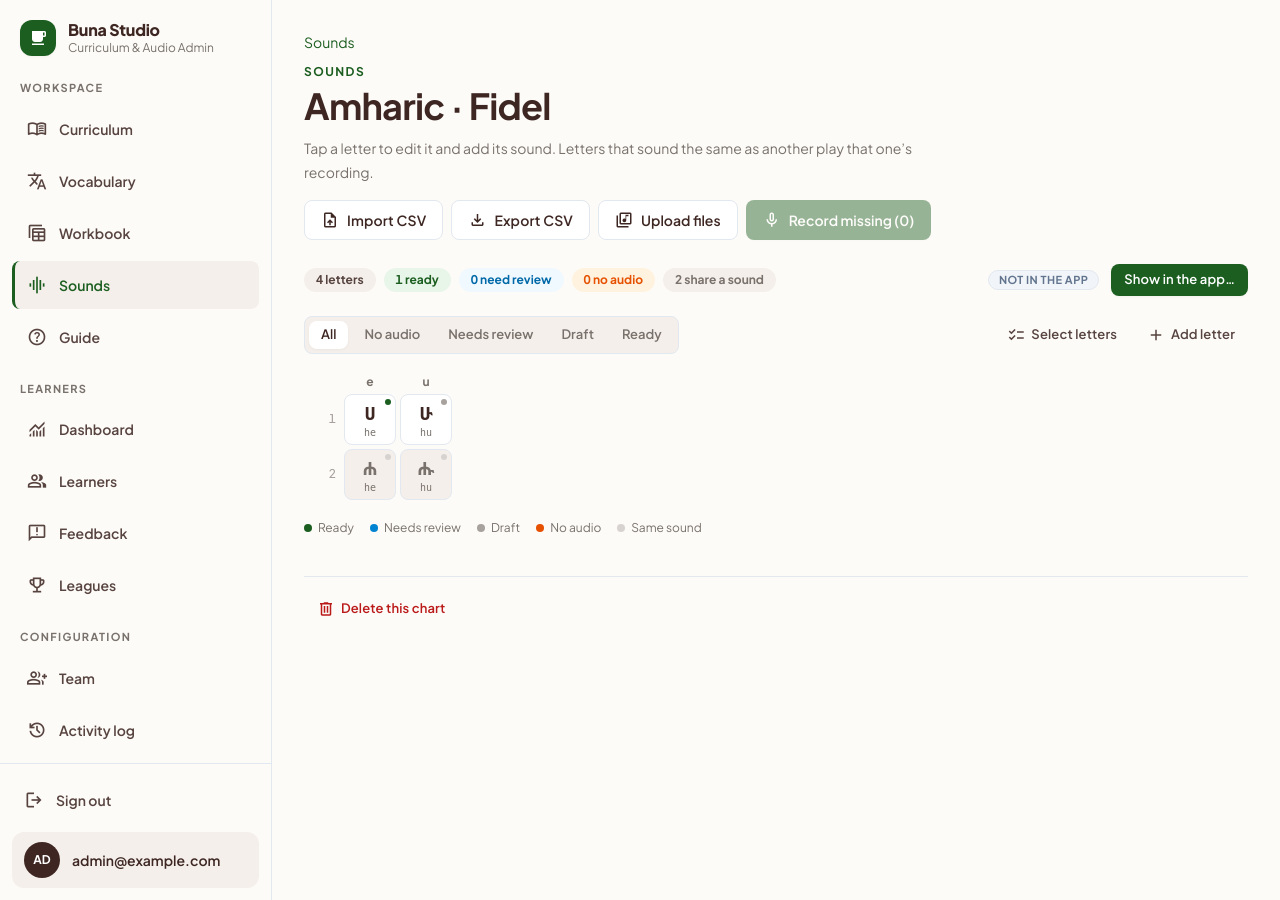
Test case: a chart › shows a complete chart in the app
Click the button "Show in the app…" at [1180, 280], box [1111, 264, 1248, 296]
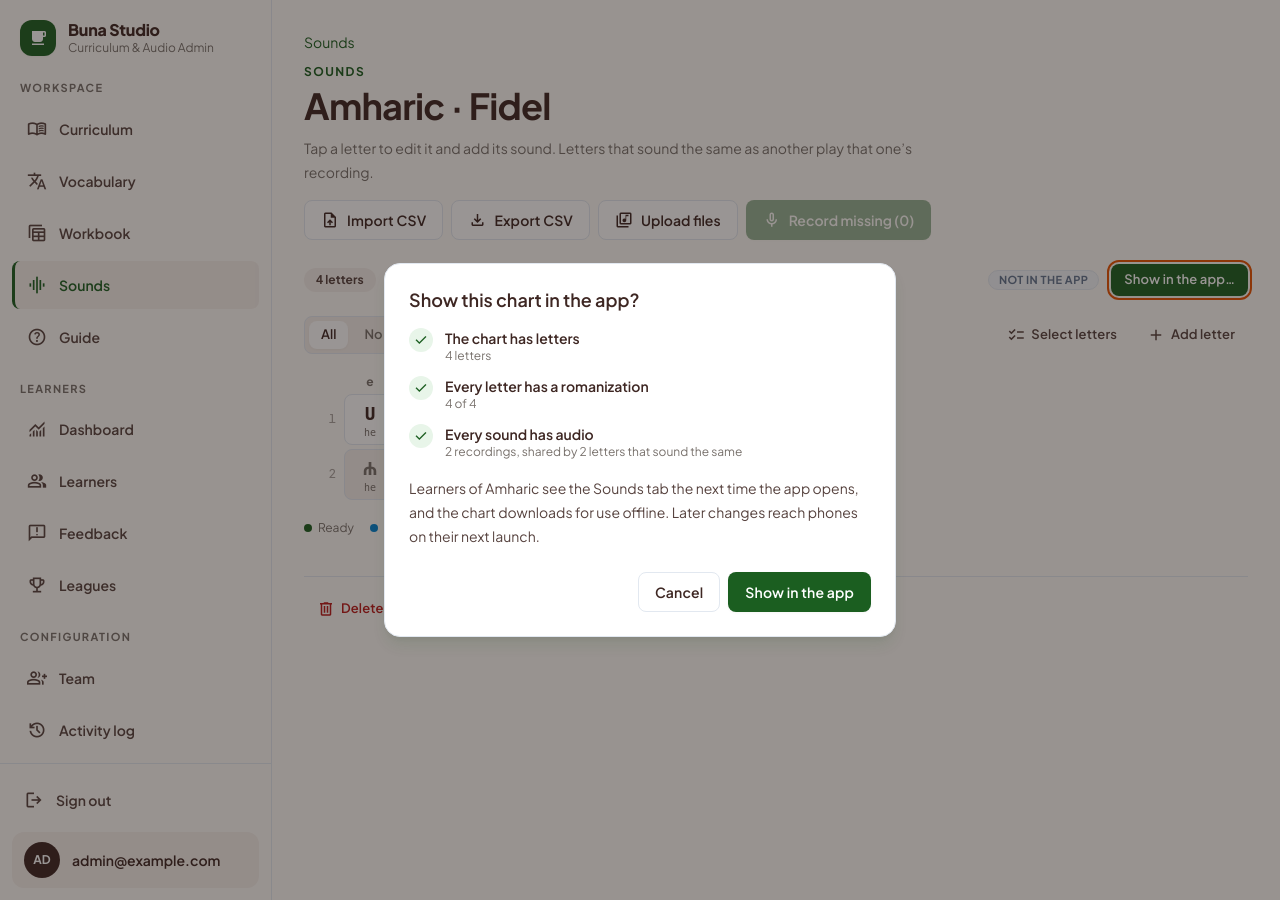
Click the button "Show in the app" at [800, 592], box [728, 572, 871, 612]
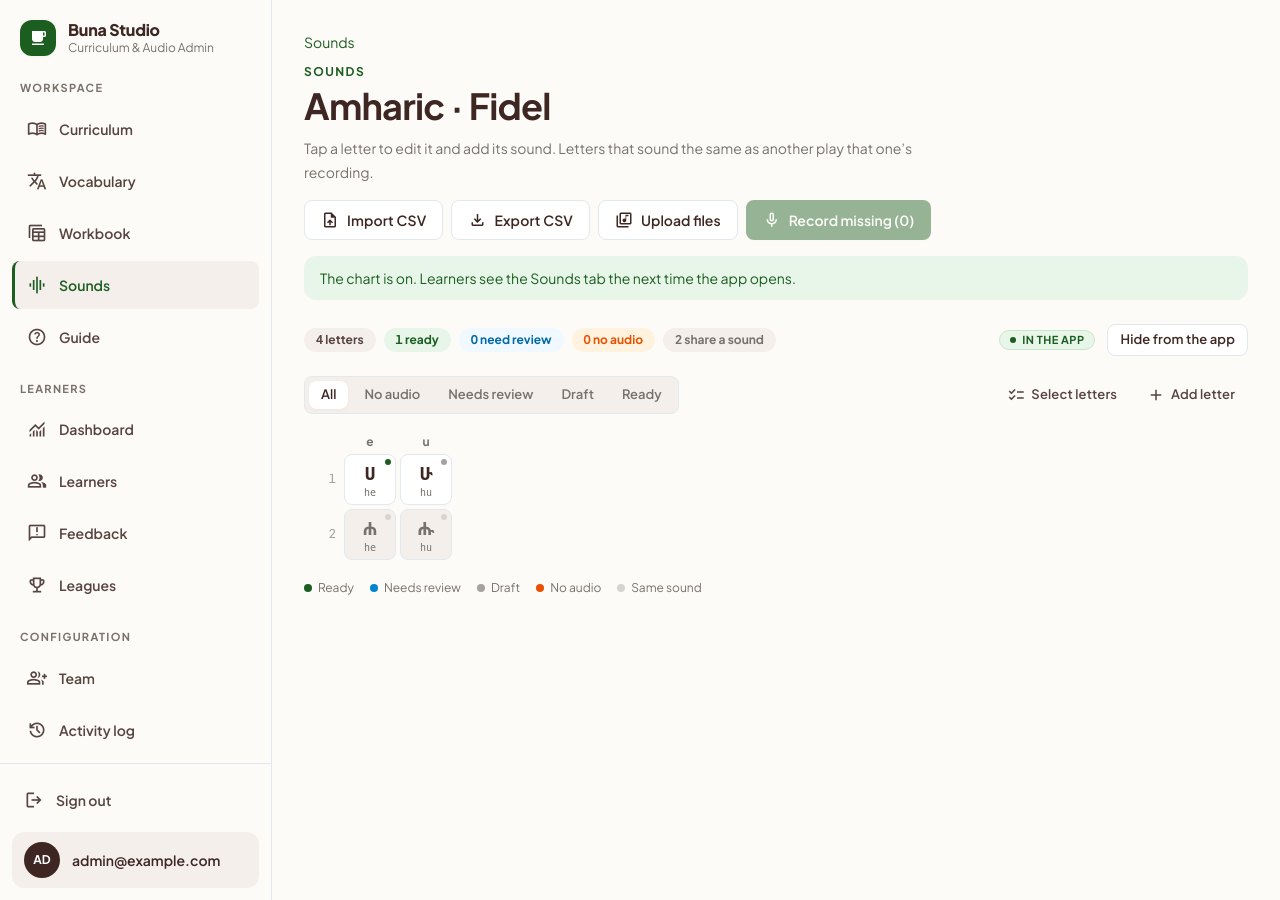
Expected: the text "In the app" is shown, [999, 330, 1096, 350]
Result: the message shows "Learners see the Sounds tab" at [320, 269, 796, 287]
